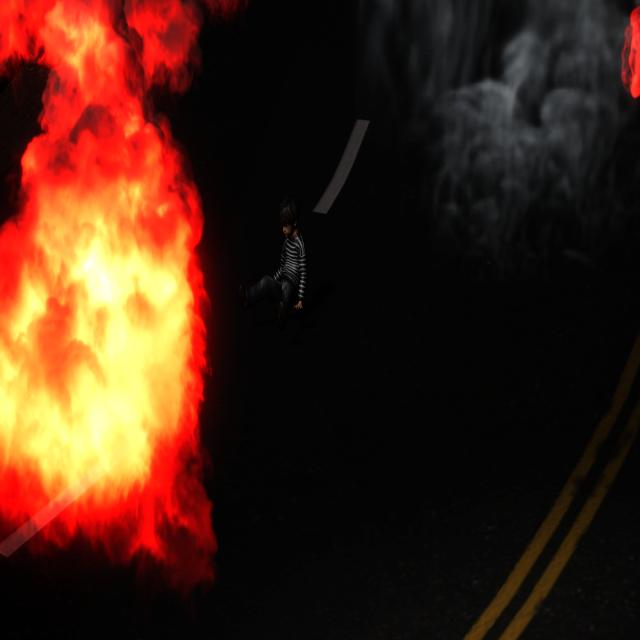Human: (235, 195, 310, 321)
